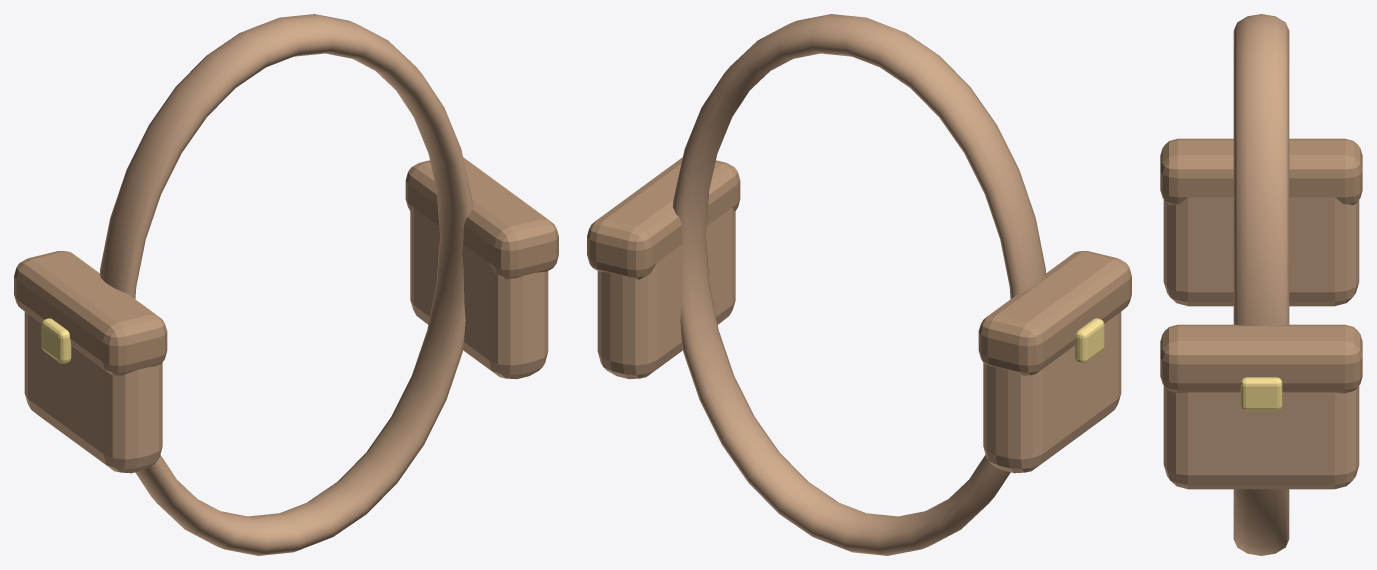
File: saddlebags.glb
3 renders of one model, left to right at view 1: azimuth 30°, elevation 25°; view 2: azimuth 150°, elevation 25°; view 3: azimuth 270°, elevation 25°, orthographic. The views are drawn at different scales.
Parts seen in each view (by area): view 1: saddlebags; view 2: saddlebags; view 3: saddlebags.
Boxes of the visible parts, x1,y1,x2,y2 form: saddlebags: (14,14,558,555); saddlebags: (587,14,1131,555); saddlebags: (1160,14,1362,555).
Bounding box in the file's own units: 0.76 × 0.8128 × 0.29.
